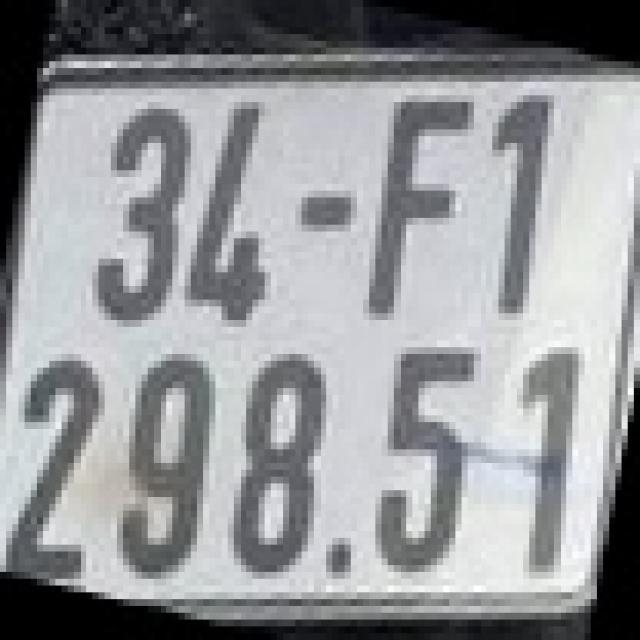1: (486, 82, 560, 320), (510, 340, 584, 572)
2: (6, 354, 99, 572)
3: (92, 102, 185, 320)
4: (191, 102, 277, 327)
5: (375, 340, 480, 572)
8: (228, 347, 326, 579)
9: (117, 354, 216, 579)
F: (363, 82, 474, 320)
